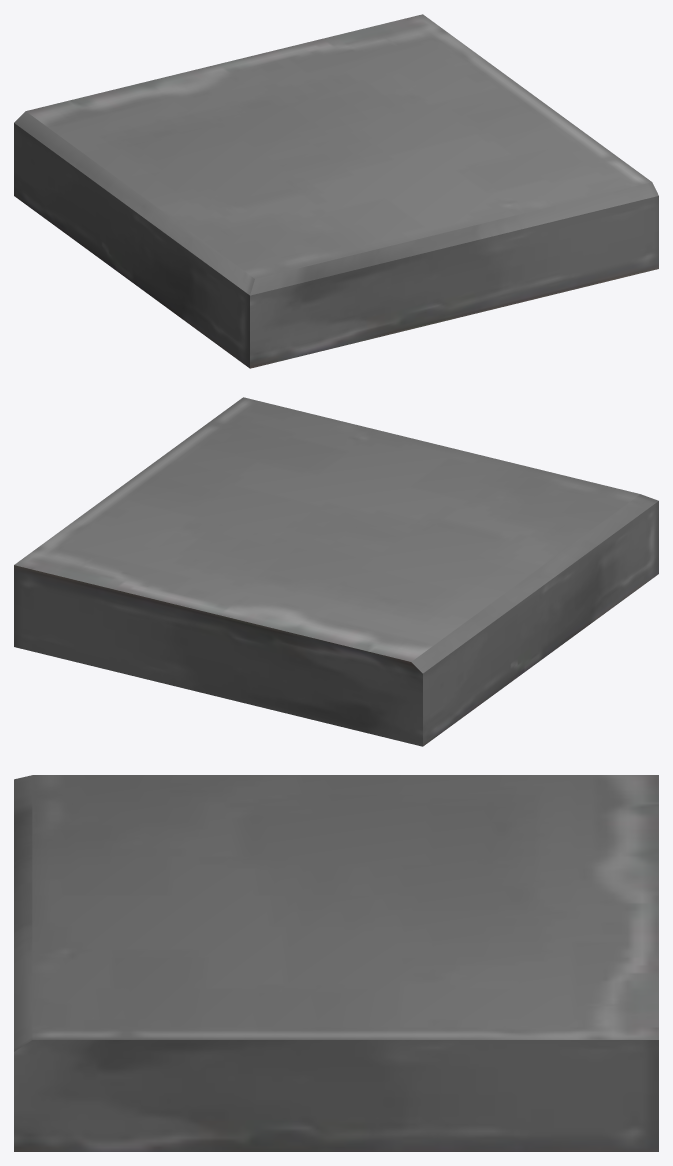
Rendered from mv_kerb_corner.glb.
The picture shows the model from 3 angles, top to bottom: view 1: azimuth 30°, elevation 25°; view 2: azimuth 150°, elevation 25°; view 3: azimuth 270°, elevation 25°; orthographic projection. The views are drawn at different scales.
Parts seen in each view (by area): view 1: Prop_ExteriorBorder_Corner; view 2: Prop_ExteriorBorder_Corner; view 3: Prop_ExteriorBorder_Corner.
Part boxes in pixels (bbox=[...]): Prop_ExteriorBorder_Corner: bbox=[14, 14, 658, 368]; Prop_ExteriorBorder_Corner: bbox=[14, 397, 658, 746]; Prop_ExteriorBorder_Corner: bbox=[14, 775, 658, 1151].
Size of the model in its own units: 0.7 by 0.134 by 0.7.
1 material, 1 textured.
